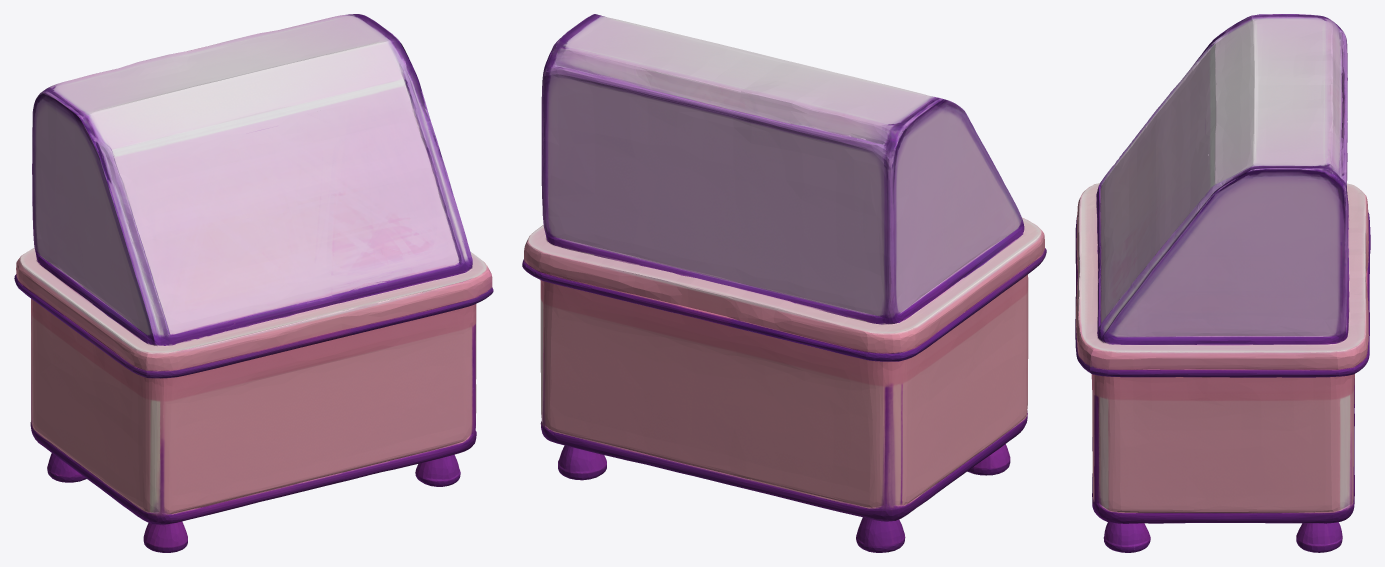
The picture shows the model from 3 angles, left to right: view 1: azimuth 30°, elevation 25°; view 2: azimuth 150°, elevation 25°; view 3: azimuth 270°, elevation 25°; orthographic projection. The views are drawn at different scales.
Visible parts, largest first — view 1: world; view 2: world; view 3: world.
Boxes of the visible parts, box(x1,y1,x2,y2) form: world: box(14, 14, 493, 552); world: box(522, 14, 1046, 552); world: box(1075, 14, 1370, 552).
Bounding box in the file's own units: 95.13 × 99.02 × 68.06.
1 material, 1 textured.
